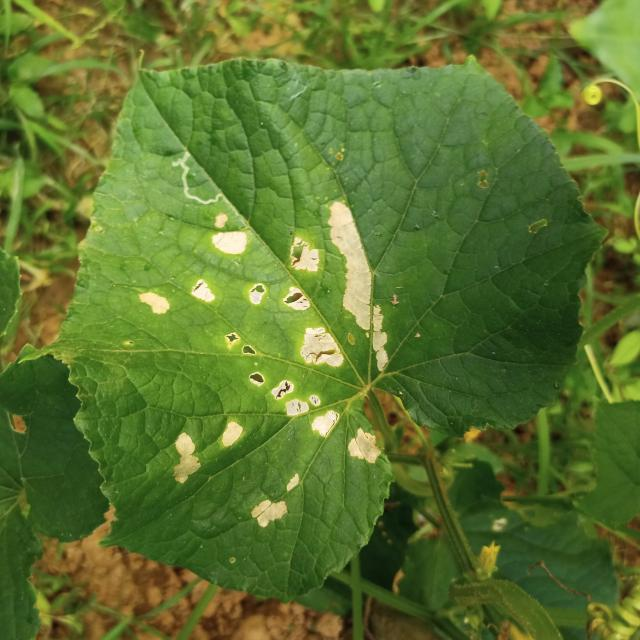disease_cucumber: (136, 198, 391, 471), (170, 422, 243, 484), (248, 472, 304, 534)
